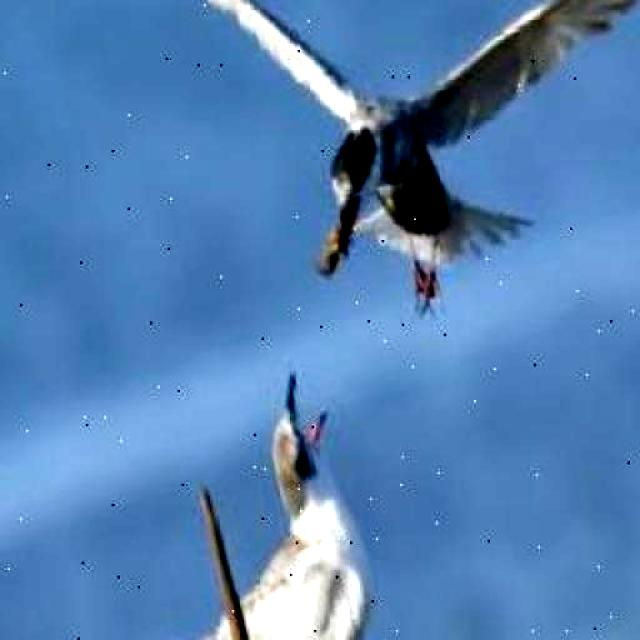airplane: (56, 0, 640, 379), (75, 360, 409, 640)
